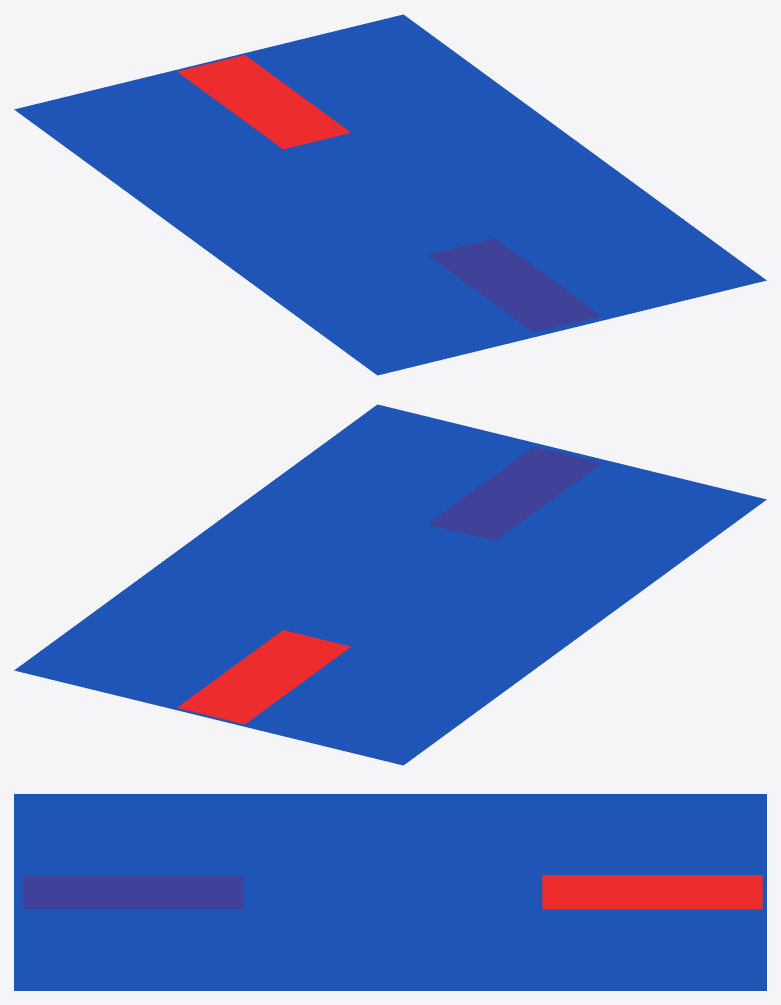
File: Action_floor.fbx
The picture shows the model from 3 angles, top to bottom: view 1: azimuth 30°, elevation 25°; view 2: azimuth 150°, elevation 25°; view 3: azimuth 270°, elevation 25°; orthographic projection. The views are drawn at different scales.
Visible parts, largest first — view 1: Cube.038, Cube.431; view 2: Cube.038, Cube.431; view 3: Cube.038, Cube.431.
Boxes of the visible parts, <box> form: Cube.038: <box>14,14,766,375</box>; Cube.431: <box>177,55,601,332</box>; Cube.038: <box>14,404,766,765</box>; Cube.431: <box>177,446,601,724</box>; Cube.038: <box>14,794,766,990</box>; Cube.431: <box>23,875,762,909</box>.
Size of the model in its own units: 727 by 1175 by 0.556.
